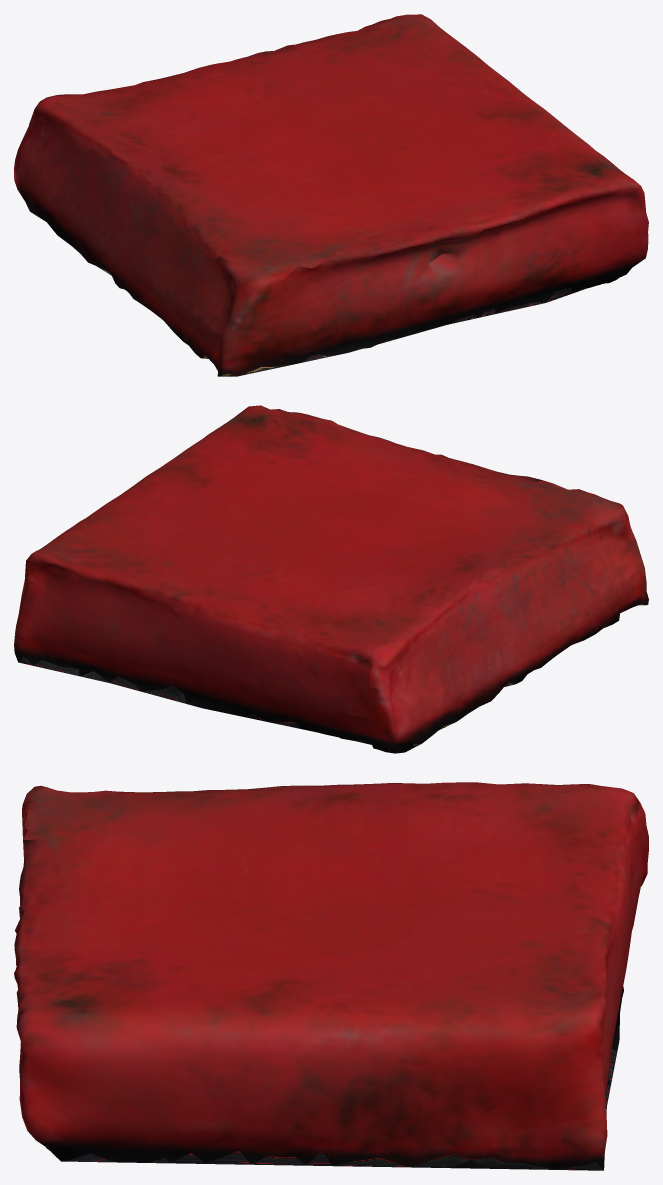
The model's file is pressureplate.glb.
3 views of the same model, one above another, from view 1: azimuth 30°, elevation 25°; view 2: azimuth 150°, elevation 25°; view 3: azimuth 270°, elevation 25° (orthographic). The views are drawn at different scales.
Visible parts, largest first — view 1: Object; view 2: Object; view 3: Object.
Boxes of the visible parts, left/top/right/bottom form: Object: left=14, top=14, right=648, bottom=376; Object: left=14, top=405, right=648, bottom=753; Object: left=14, top=782, right=648, bottom=1170.
Bounding box in the file's own units: 0.6461 × 0.1634 × 0.6244.
Materials: 1 (1 with a texture image).
